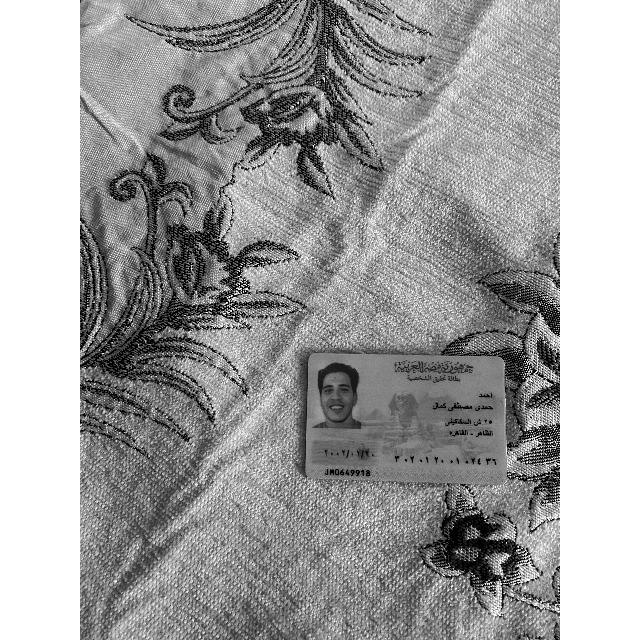id_card: (305, 352, 507, 485)
